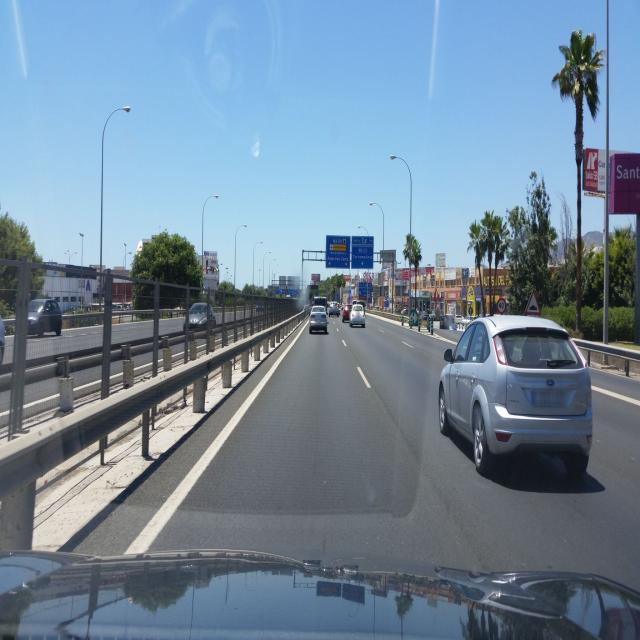car: (438, 313, 593, 479), (6, 298, 63, 340), (185, 300, 217, 332), (308, 305, 329, 334), (349, 302, 366, 328), (341, 304, 352, 324), (329, 302, 339, 316)
